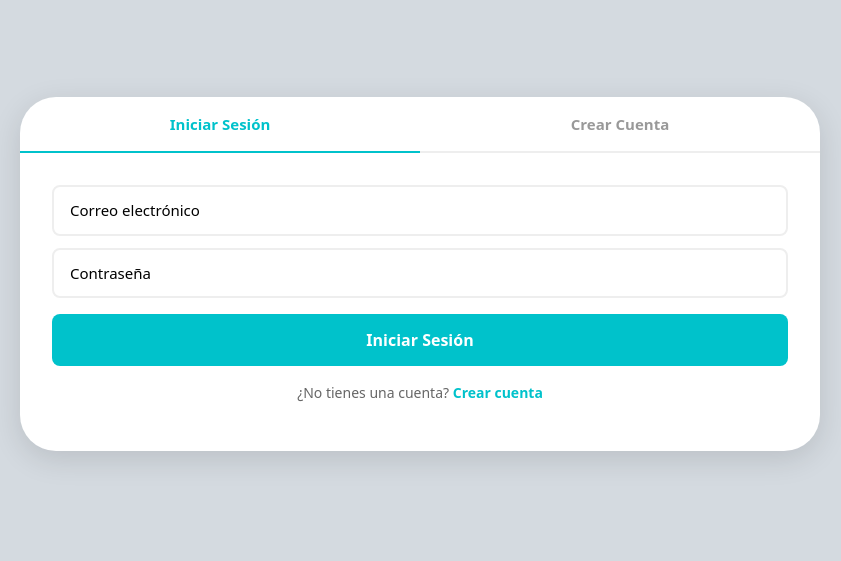
Scenario: LoginRegister › muestra errores de validacion en el registro
What coordinates should you click on to do the following:
click the button "Crear Cuenta"
I would click on:
 (620, 125)
Its box is 420,97 -> 820,153.
Wait 500 ms
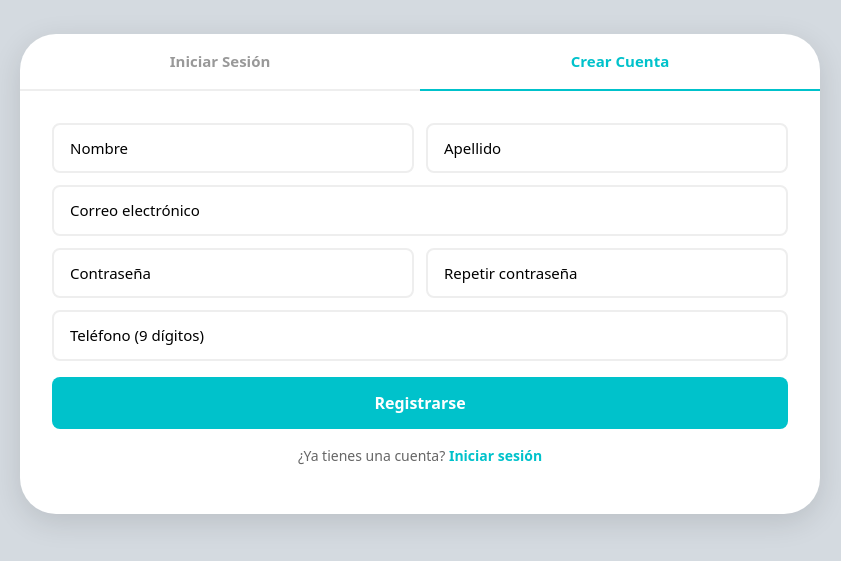
What coordinates should you click on to do the following:
click the button "Registrarse"
I would click on:
 (420, 403)
Its box is 52,377 -> 788,429.
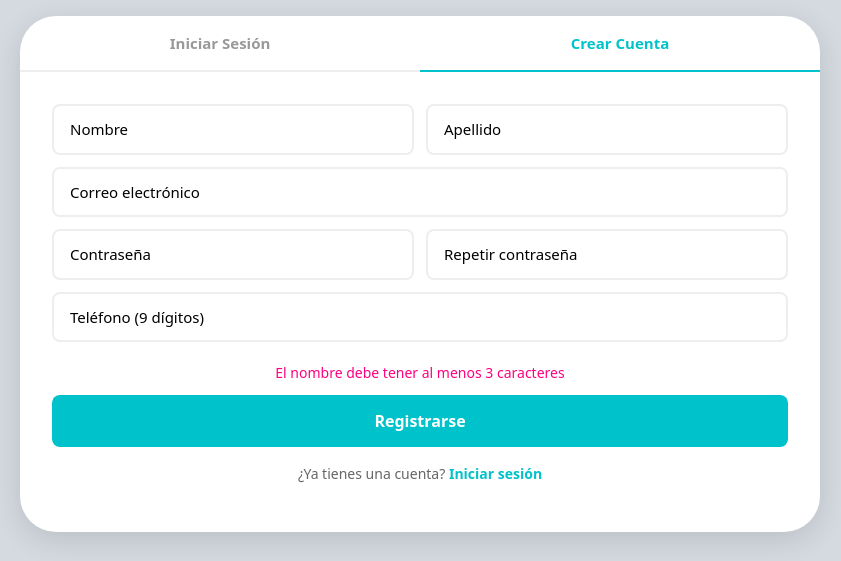
Now the text "El nombre debe tener al menos 3 caracteres" is shown, box 275,363 -> 565,382
